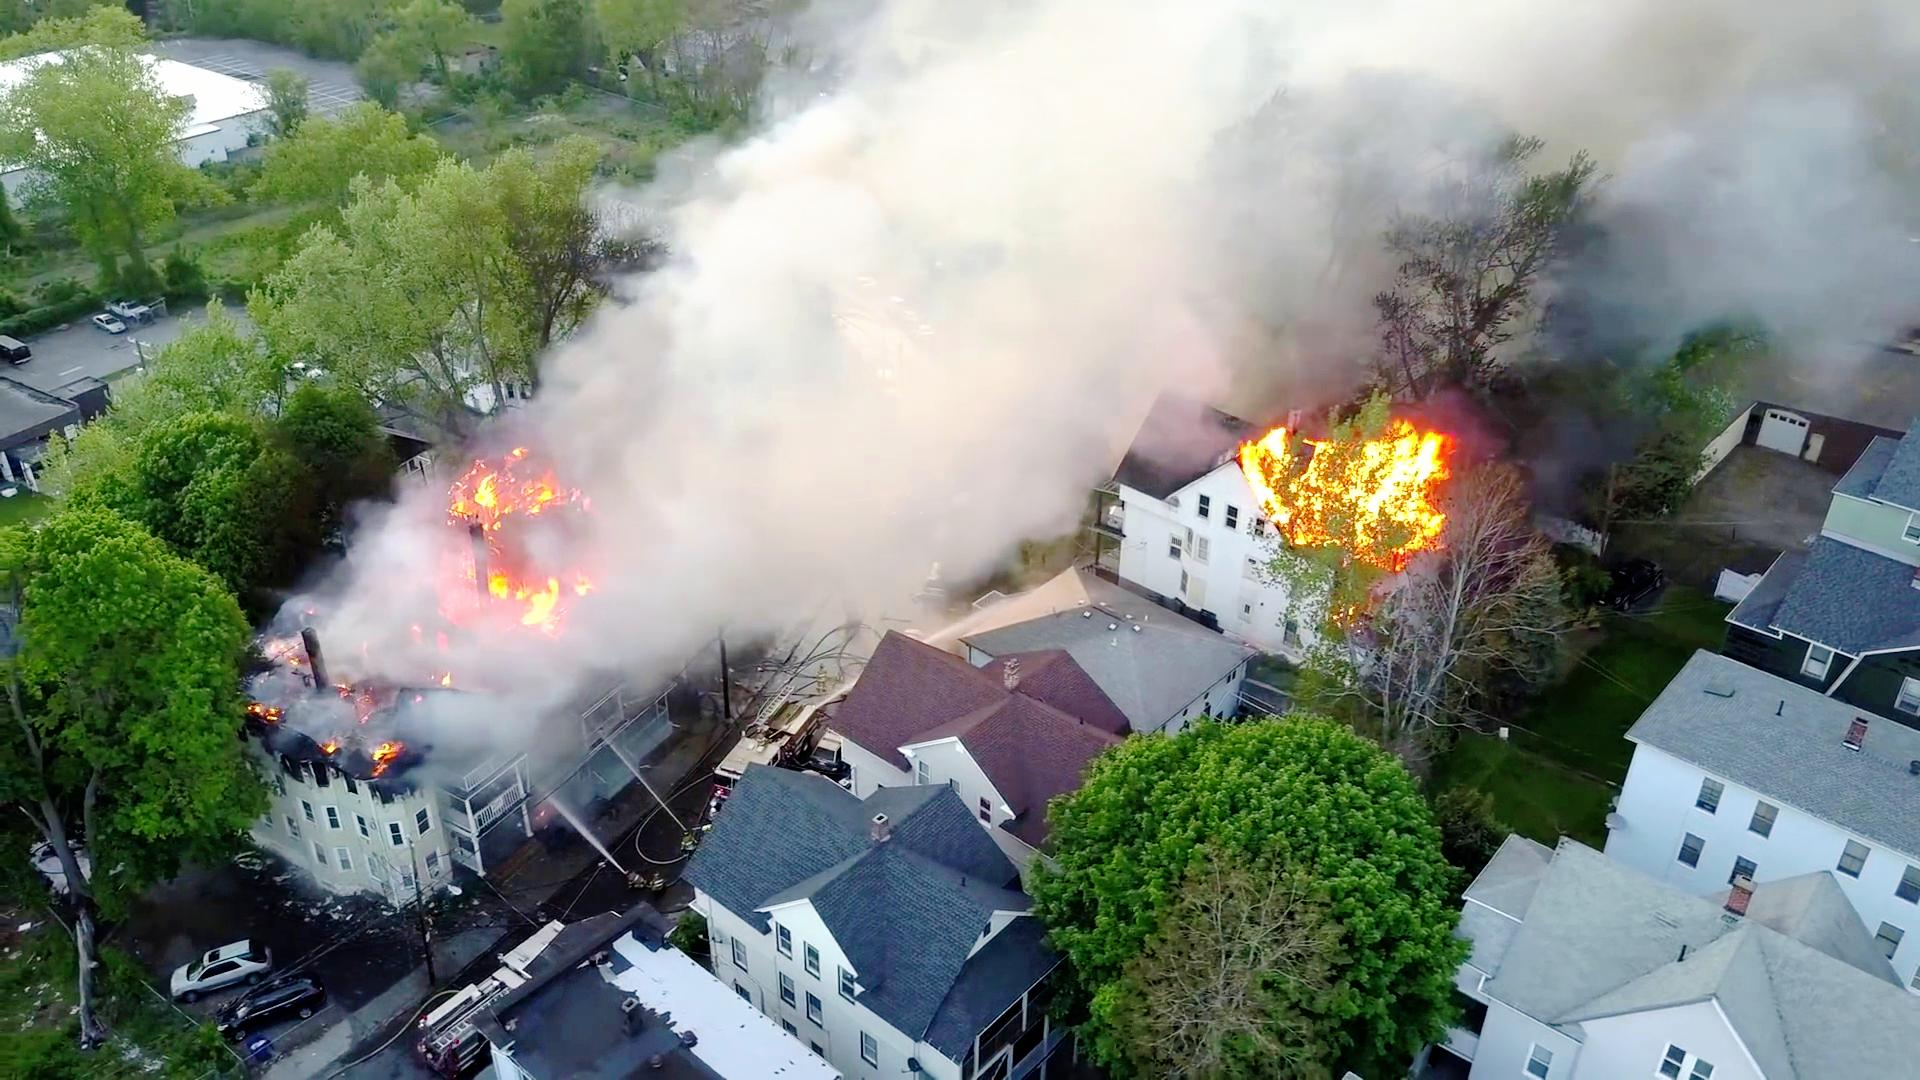fire: (1249, 418, 1458, 575), (439, 546, 580, 644), (448, 443, 571, 518)
